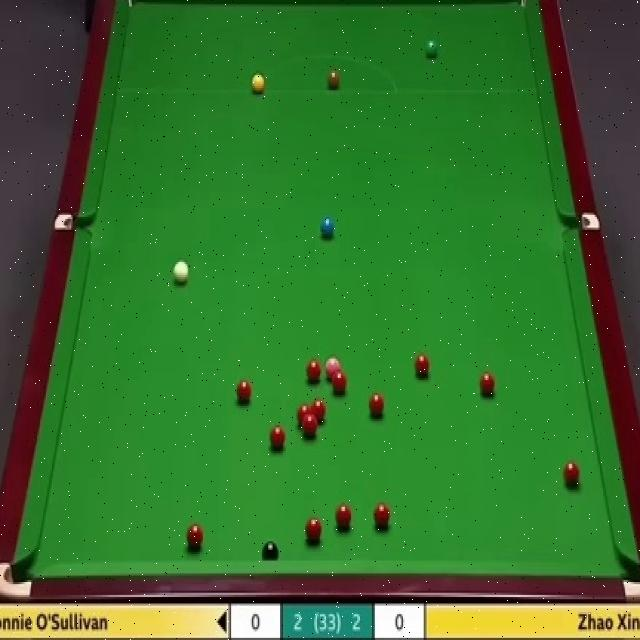black-ball: (262, 541, 279, 561)
blue-ball: (318, 213, 335, 240)
brown-ball: (327, 70, 339, 89)
green-ball: (422, 39, 439, 60)
pink-ball: (326, 357, 341, 381)
red-ball: (563, 460, 581, 491), (413, 351, 431, 382), (373, 501, 391, 530), (186, 523, 204, 550), (335, 503, 352, 531), (479, 371, 497, 397), (306, 516, 322, 544), (368, 391, 384, 419), (237, 381, 253, 407), (332, 370, 348, 394), (312, 399, 326, 426), (270, 425, 285, 450), (303, 417, 317, 438), (307, 362, 321, 383), (297, 404, 311, 425)
white-ball: (173, 258, 191, 288)
yellow-ball: (250, 72, 265, 93)
